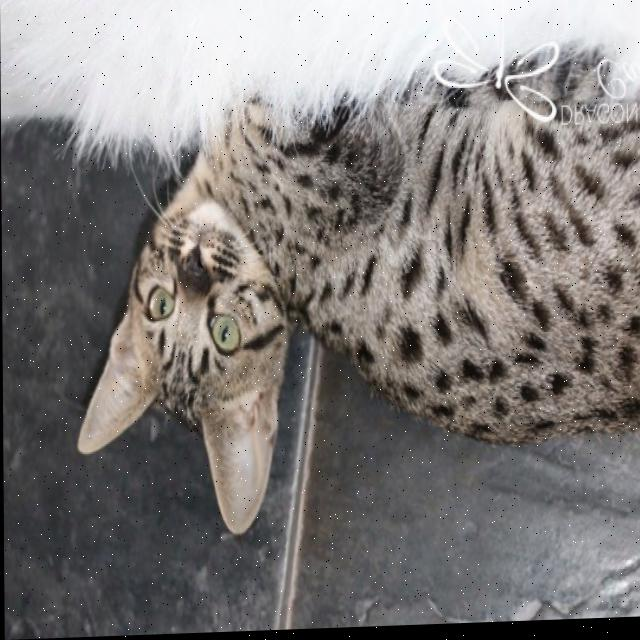Savannah: (71, 40, 640, 545)
